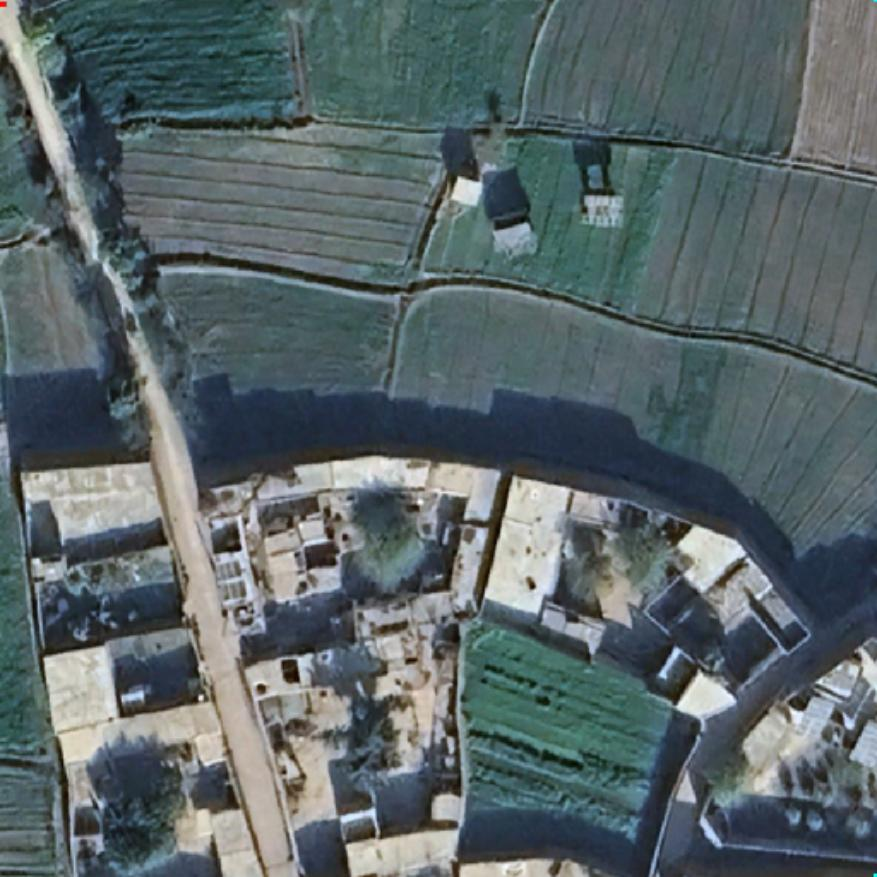Solarpanel: (792, 691, 836, 740), (579, 190, 627, 229), (492, 220, 541, 258), (847, 717, 875, 773), (216, 580, 247, 603), (213, 560, 244, 582)
